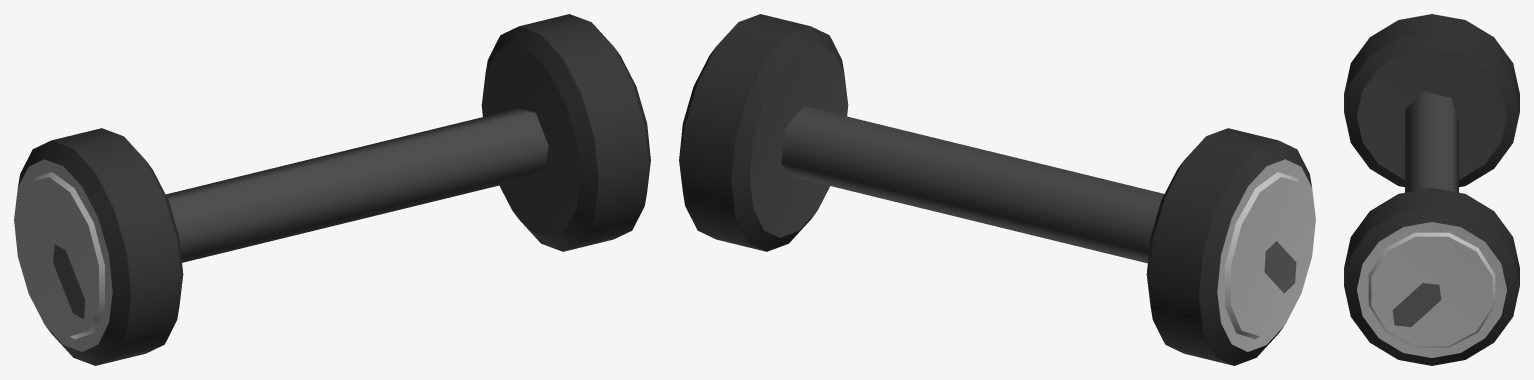
Rendered from Delivery_drone_009_wheels_001.fbx.
3 views of the same model, side by side, from view 1: azimuth 30°, elevation 25°; view 2: azimuth 150°, elevation 25°; view 3: azimuth 270°, elevation 25° (orthographic). The views are drawn at different scales.
Visible parts, largest first — view 1: Delivery_drone_009_wheels_001; view 2: Delivery_drone_009_wheels_001; view 3: Delivery_drone_009_wheels_001.
Part boxes in pixels (x1,y1,x2,y2): Delivery_drone_009_wheels_001: (14, 14, 650, 365); Delivery_drone_009_wheels_001: (679, 14, 1315, 365); Delivery_drone_009_wheels_001: (1344, 14, 1519, 365).
Bounding box in the file's own units: 81.66 × 29.88 × 29.88.
